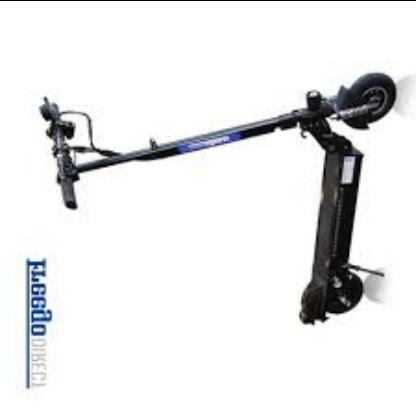bike: (9, 72, 399, 328)
